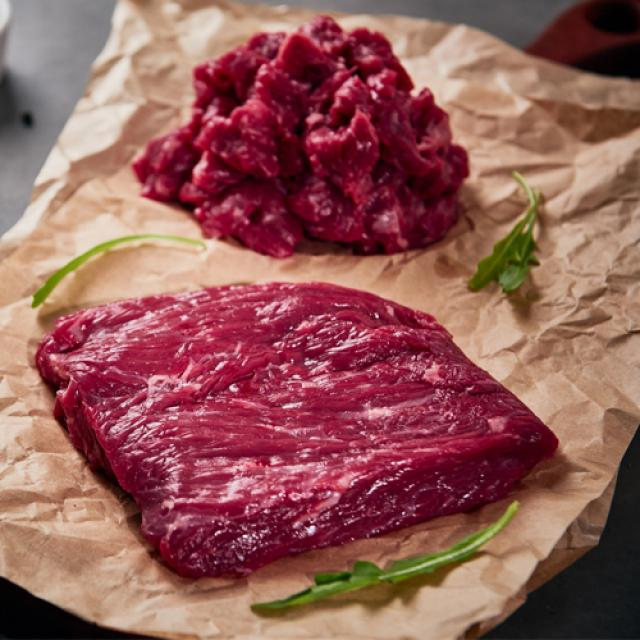beef: (123, 305, 415, 488), (246, 58, 419, 229)
